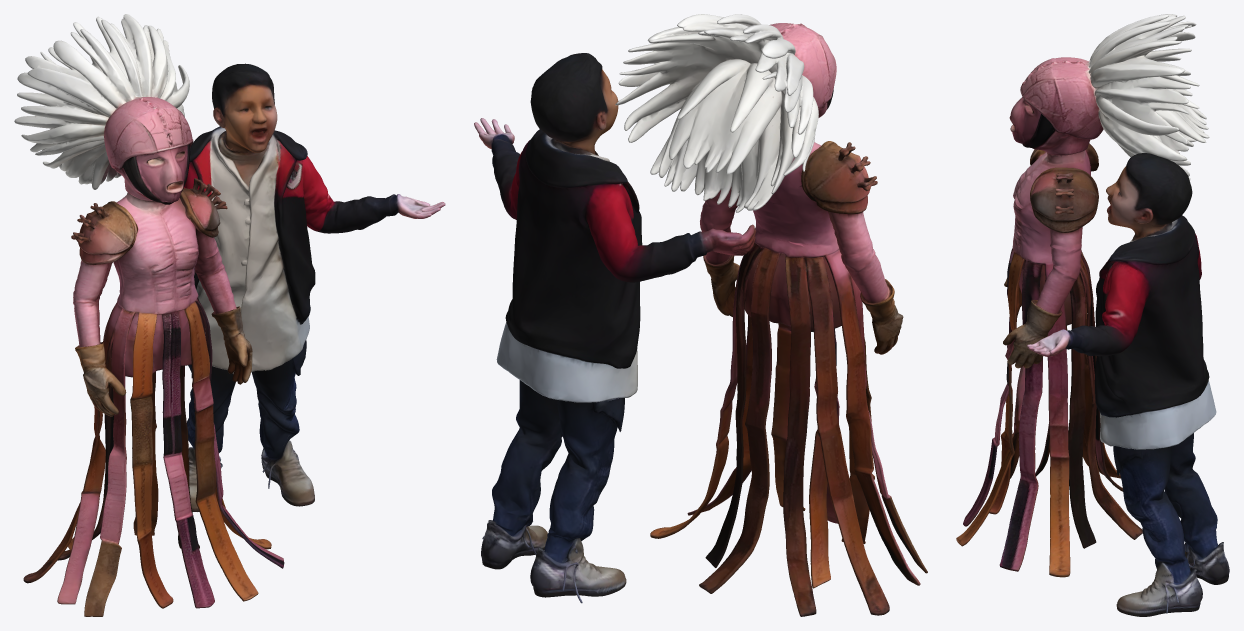
The model's file is Gabriel baja.glb.
3 renders of one model, left to right at view 1: azimuth 30°, elevation 25°; view 2: azimuth 150°, elevation 25°; view 3: azimuth 270°, elevation 25°, orthographic. The views are drawn at different scales.
Parts seen in each view (by area): view 1: tripo_node_badb6360-a082-4a2c-b2ea-2a6f422c9a51; view 2: tripo_node_badb6360-a082-4a2c-b2ea-2a6f422c9a51; view 3: tripo_node_badb6360-a082-4a2c-b2ea-2a6f422c9a51.
Part boxes in pixels (left/top/right/bottom): tripo_node_badb6360-a082-4a2c-b2ea-2a6f422c9a51: left=14, top=14, right=445, bottom=616; tripo_node_badb6360-a082-4a2c-b2ea-2a6f422c9a51: left=474, top=14, right=927, bottom=616; tripo_node_badb6360-a082-4a2c-b2ea-2a6f422c9a51: left=956, top=14, right=1229, bottom=616.
Bounding box in the file's own units: 0.7928 × 1 × 0.491.
Materials: 1 (1 with a texture image).
